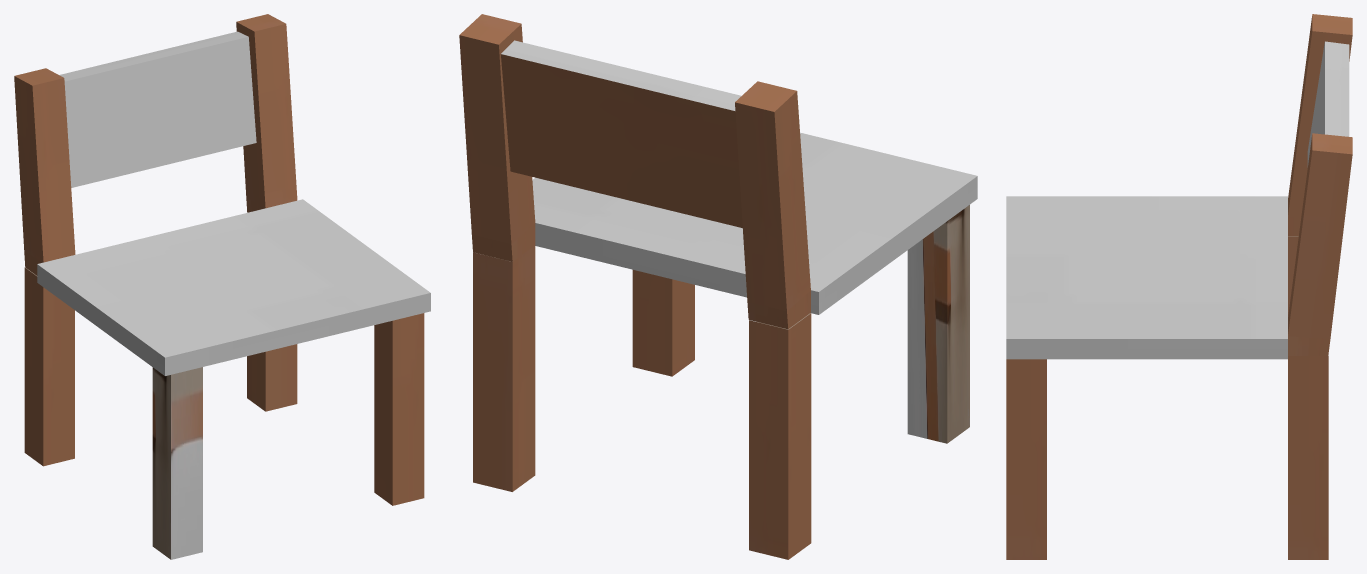
Rendered from Cadeira.glb.
3 views of the same model, side by side, from view 1: azimuth 30°, elevation 25°; view 2: azimuth 150°, elevation 25°; view 3: azimuth 270°, elevation 25° (orthographic). The views are drawn at different scales.
Parts seen in each view (by area): view 1: Cube.007; view 2: Cube.007; view 3: Cube.007.
Boxes of the visible parts, <box> form: Cube.007: <box>14,14,430,559</box>; Cube.007: <box>459,14,977,559</box>; Cube.007: <box>1006,14,1352,559</box>.
Bounding box in the file's own units: 0.6 × 0.8035 × 0.6151.
1 material, 1 textured.
